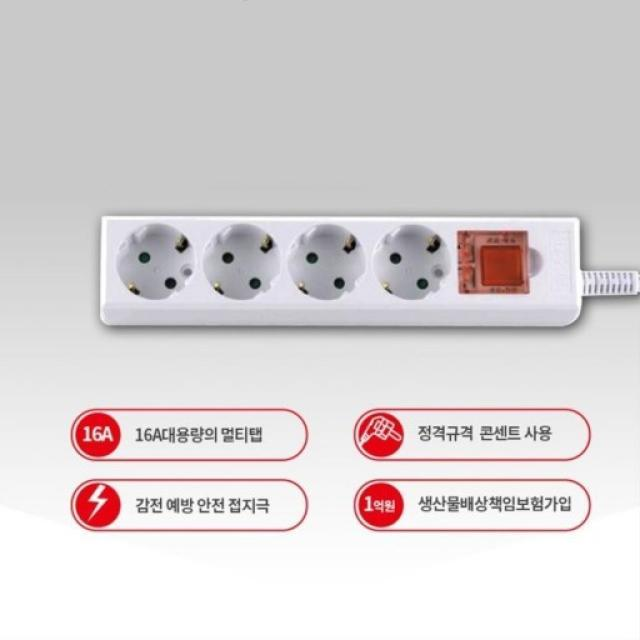typeb: (61, 184, 624, 365)
